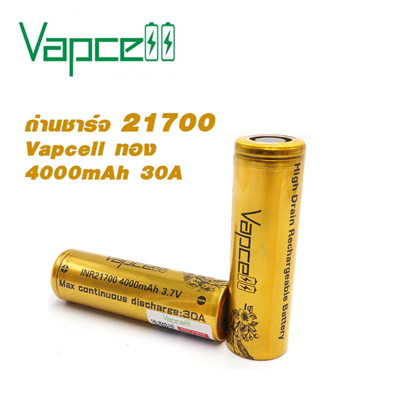Battery: (219, 131, 310, 364), (47, 246, 232, 349)
